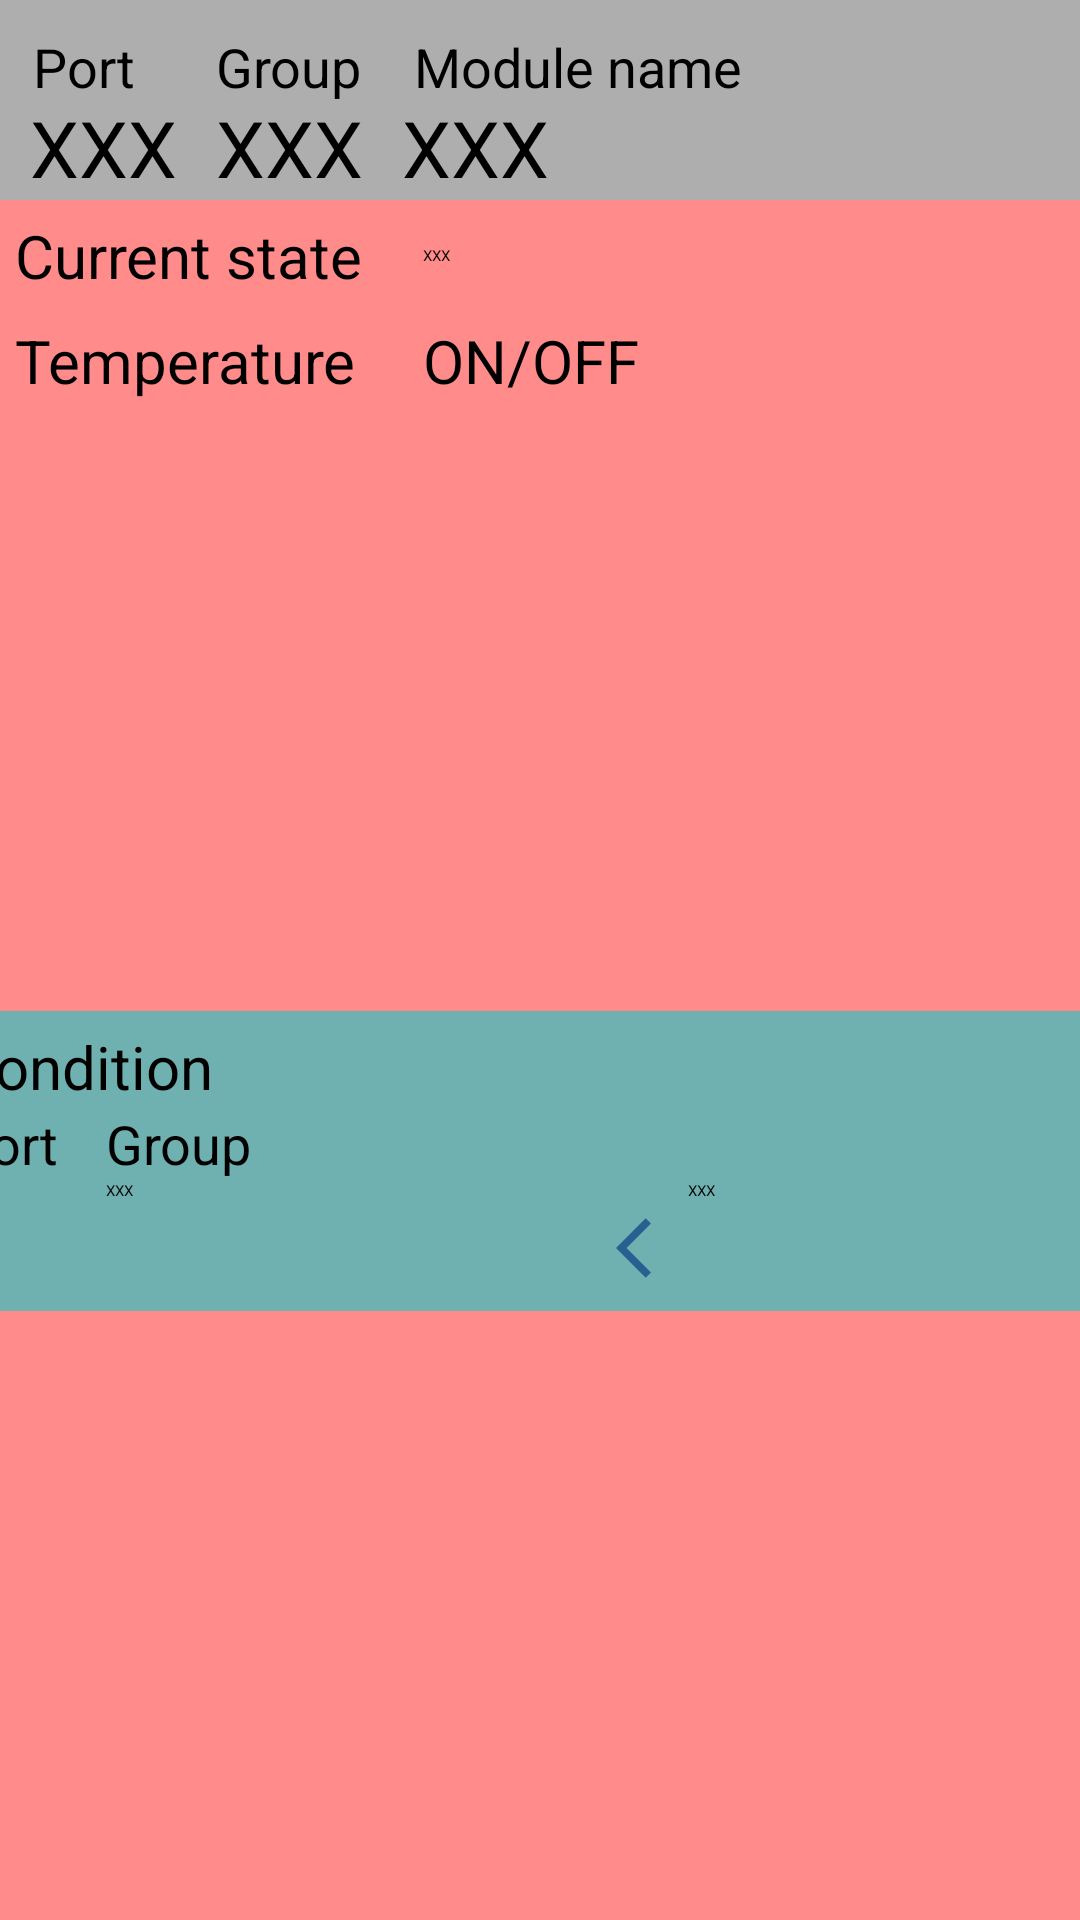

Screen size 1080px x 1920px. Icon name, then its center in pixels as point (x, y):
less: point (633, 1248)
